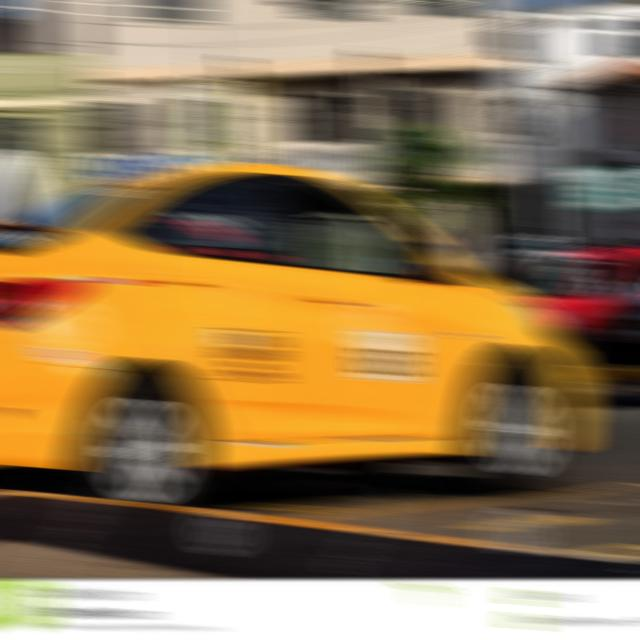Taxi: (0, 130, 605, 499)
